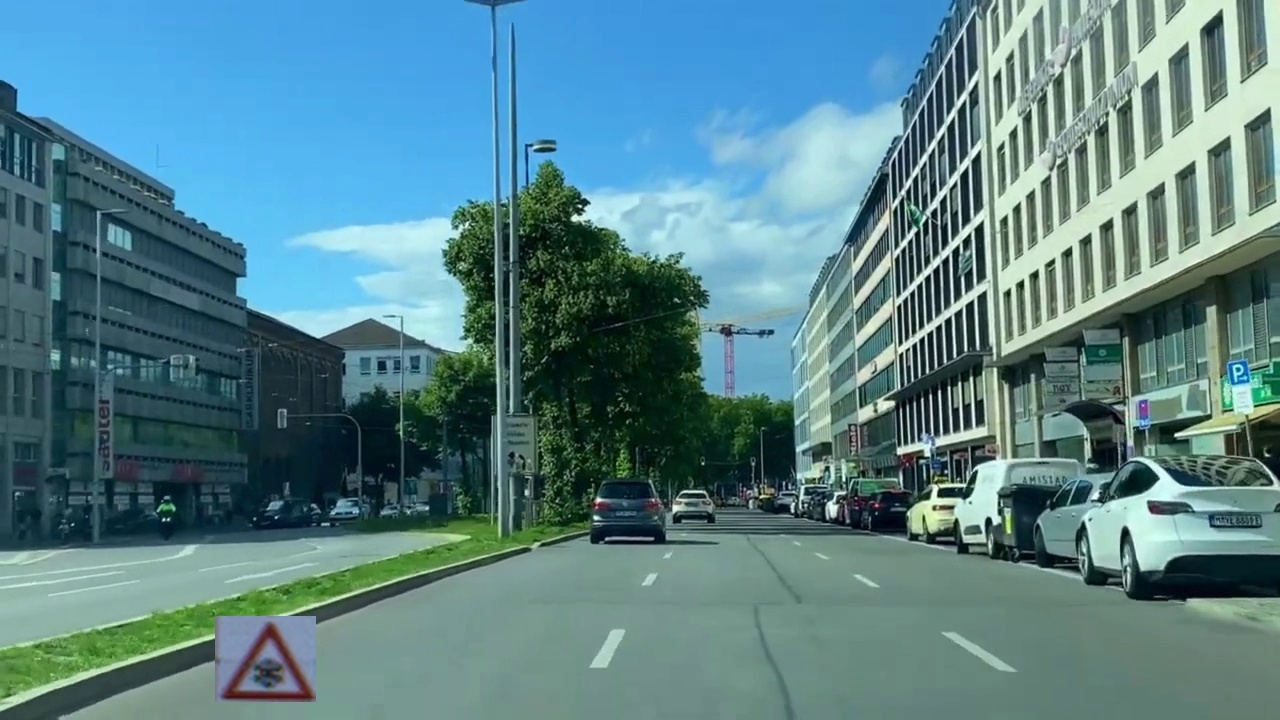Ice/snow: (215, 616, 316, 702)
